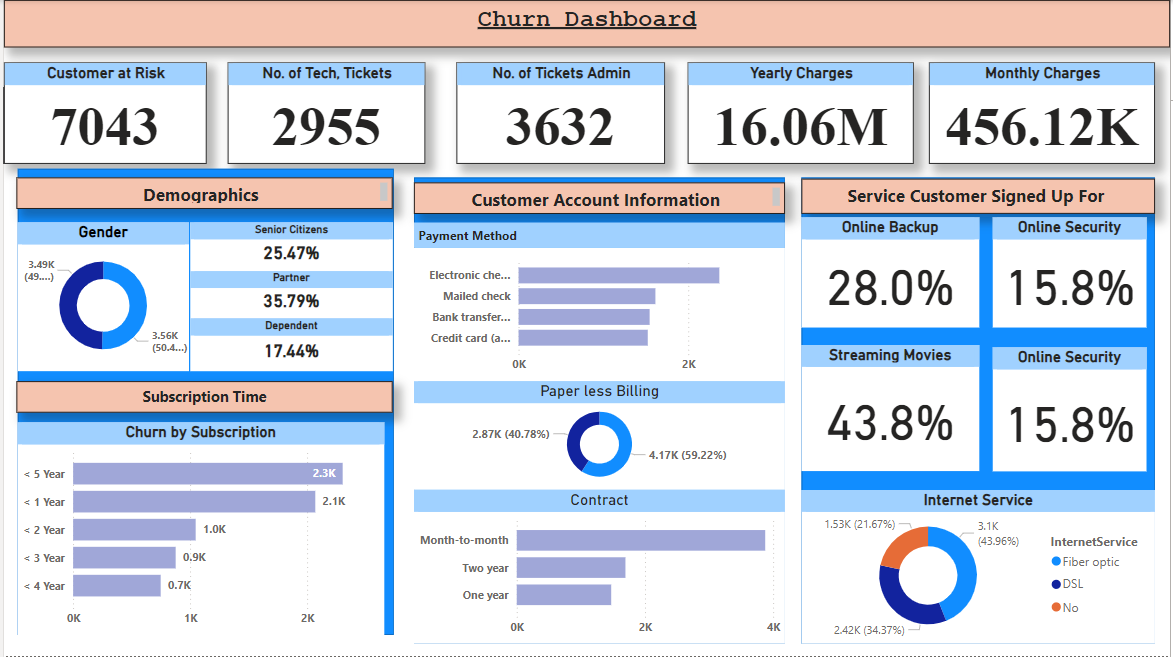

The dashboard page shown, as its layout file describes it:
{"tool":"powerbi","page":{"name":"Churn Dashboard ","canvas":[1280,720],"ordinal":1},"visuals":[{"type":"textbox","box":[0,0,1280.3,52.1],"z":0},{"type":"card","title":"Customer at Risk","fields":{"Values":["CountNonNull(01 Churn-Dataset.customerID)"]},"box":[0,68.6,222.3,111.1],"z":1000},{"type":"card","title":"No. of Tech, Tickets","fields":{"Values":["Sum(01 Churn-Dataset.numTechTickets)"]},"box":[245.6,68.6,216.8,111.1],"z":2000},{"type":"card","title":"No. of Tickets Admin","fields":{"Values":["Sum(01 Churn-Dataset.numAdminTickets)"]},"box":[496.7,68.6,229.2,111.1],"z":3000},{"type":"card","title":"Yearly Charges","fields":{"Values":["Sum(01 Churn-Dataset.TotalCharges)"]},"box":[750.6,68.6,248.4,111.1],"z":4000},{"type":"card","title":"Monthly Charges","fields":{"Values":["Sum(01 Churn-Dataset.MonthlyCharges)"]},"box":[1015.4,68.6,248.4,111.1],"z":5000},{"type":"shape","box":[15.1,185.2,413,511.8],"z":6000},{"type":"shape","box":[450.1,194.9,407.5,511.8],"z":7000},{"type":"shape","box":[875.5,194.9,388.3,511.8],"z":8000},{"type":"textbox","box":[13.7,194.9,413,34.3],"z":9000},{"type":"textbox","box":[450.1,200.3,407.5,34.3],"z":10000},{"type":"textbox","box":[875.5,196.2,388.3,38.4],"z":11000},{"type":"donutChart","title":"Gender ","fields":{"Category":["01 Churn-Dataset.gender"],"Y":["CountNonNull(01 Churn-Dataset.gender)"]},"box":[15.1,244.3,188,163.3],"z":12000},{"type":"textbox","box":[13.7,418.5,413,34.3],"z":13000},{"type":"clusteredBarChart","title":"Churn by Subscription","fields":{"Category":["01 Churn-Dataset.Subscription"],"Y":["CountNonNull(01 Churn-Dataset.Churn)"]},"box":[15.1,463.8,402.1,233.3],"z":14000},{"type":"card","title":"Senior Citizens","fields":{"Values":["01 Churn-Dataset.% of senior citizen"]},"box":[204.5,244.3,222.3,53.5],"z":15000},{"type":"card","title":"Partner","fields":{"Values":["01 Churn-Dataset.% of Partner"]},"box":[204.5,297.8,222.3,52.1],"z":16000},{"type":"card","title":"Dependent","fields":{"Values":["01 Churn-Dataset.% of Dependent"]},"box":[204.5,349.9,222.3,57.6],"z":17000},{"type":"textbox","box":[450.1,244.3,407.5,27.4],"z":18000},{"type":"clusteredBarChart","title":" PaymentMethod by PaymentMethod","fields":{"Category":["01 Churn-Dataset.PaymentMethod"],"Y":["CountNonNull(01 Churn-Dataset.PaymentMethod)"]},"box":[450.1,271.7,407.5,146.8],"z":19000},{"type":"donutChart","title":" Paper less Billing ","fields":{"Category":["01 Churn-Dataset.PaperlessBilling"],"Y":["CountNonNull(01 Churn-Dataset.PaperlessBilling)"]},"box":[450.1,418.5,407.5,119.4],"z":20000},{"type":"clusteredBarChart","title":" Contract ","fields":{"Category":["01 Churn-Dataset.Contract"],"Y":["CountNonNull(01 Churn-Dataset.Contract)"]},"box":[450.1,537.9,407.5,168.8],"z":21000},{"type":"donutChart","title":"Internet Service ","fields":{"Category":["01 Churn-Dataset.InternetService"],"Y":["CountNonNull(01 Churn-Dataset.InternetService)"]},"box":[875.5,537.9,388.3,168.8],"z":22000},{"type":"card","title":"Online Backup","fields":{"Values":["01 Churn-Dataset.Online Backup In %"]},"box":[875.5,238.8,194.9,120.8],"z":23000},{"type":"card","title":"Online Security","fields":{"Values":["01 Churn-Dataset.Online Security In %"]},"box":[1085.4,238.8,168.8,120.8],"z":24000},{"type":"card","title":"Online Security","fields":{"Values":["01 Churn-Dataset.Online Security In %"]},"box":[1085.4,381.5,168.8,135.8],"z":25000},{"type":"card","title":"Streaming Movies","fields":{"Values":["01 Churn-Dataset.Streaming Movies In %"]},"box":[875.5,378.7,194.9,138.6],"z":26000}]}

Visuals, with their boxes in screenshot pixels (x1, y1, x2, y2), scaled from the page's 1280x720 canvas onto the 1173x657 screenshot:
textbox: locate(0, 0, 1172, 48)
"Customer at Risk" card: locate(0, 63, 204, 164)
"No. of Tech, Tickets" card: locate(225, 63, 424, 164)
"No. of Tickets Admin" card: locate(455, 63, 665, 164)
"Yearly Charges" card: locate(688, 63, 915, 164)
"Monthly Charges" card: locate(931, 63, 1158, 164)
shape: locate(14, 169, 392, 636)
shape: locate(412, 178, 786, 645)
shape: locate(802, 178, 1158, 645)
textbox: locate(13, 178, 391, 209)
textbox: locate(412, 183, 786, 214)
textbox: locate(802, 179, 1158, 214)
"Gender " donutChart: locate(14, 223, 186, 372)
textbox: locate(13, 382, 391, 413)
"Churn by Subscription" clusteredBarChart: locate(14, 423, 382, 636)
"Senior Citizens" card: locate(187, 223, 391, 272)
"Partner" card: locate(187, 272, 391, 319)
"Dependent" card: locate(187, 319, 391, 372)
textbox: locate(412, 223, 786, 248)
" PaymentMethod by PaymentMethod" clusteredBarChart: locate(412, 248, 786, 382)
" Paper less Billing " donutChart: locate(412, 382, 786, 491)
" Contract " clusteredBarChart: locate(412, 491, 786, 645)
"Internet Service " donutChart: locate(802, 491, 1158, 645)
"Online Backup" card: locate(802, 218, 981, 328)
"Online Security" card: locate(995, 218, 1149, 328)
"Online Security" card: locate(995, 348, 1149, 472)
"Streaming Movies" card: locate(802, 346, 981, 472)
